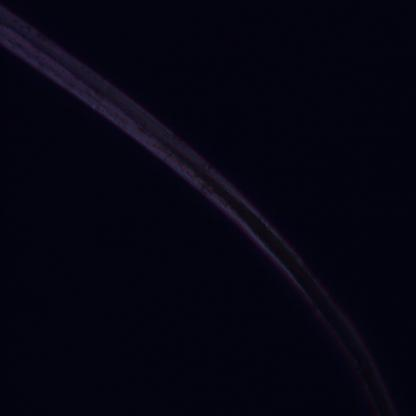Microfibre: (0, 6, 396, 406)
